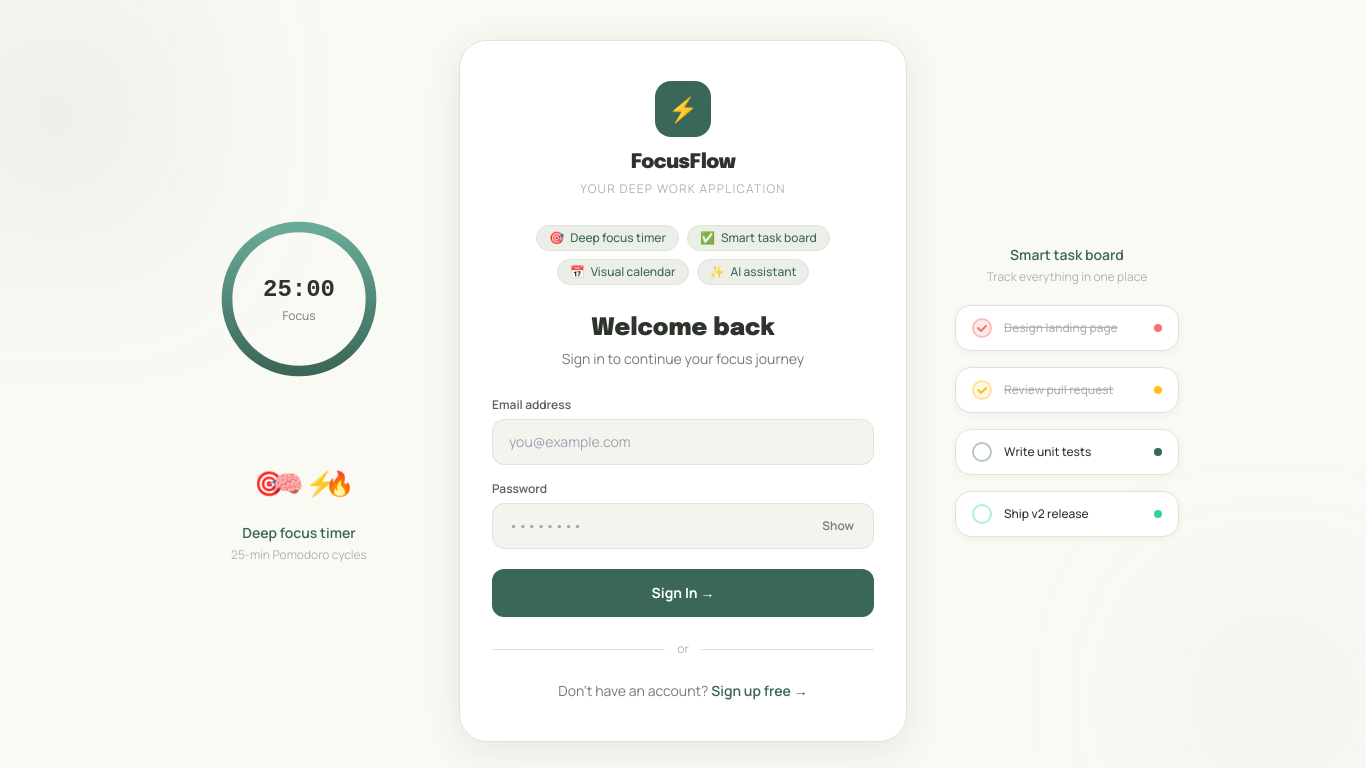
Test: LoginPage › AUTH-04: shows server error message when login fails
Type "bad@test.com" into the field labelled "Email address".
click(683, 442); type("bad@test.com")  # box [492, 419, 874, 465]
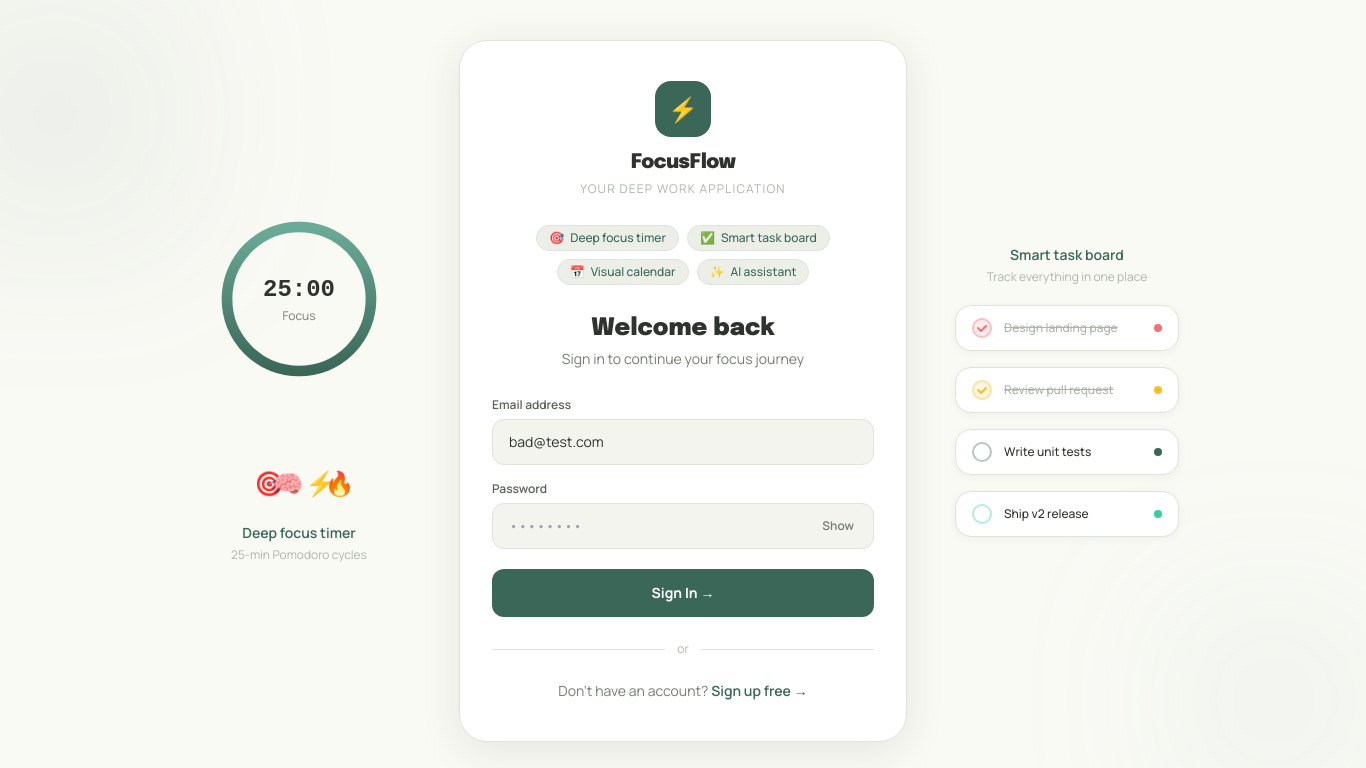
Type "wrongpass" into the password field labelled "Password".
click(683, 526); type("wrongpass")  # box [492, 503, 874, 549]
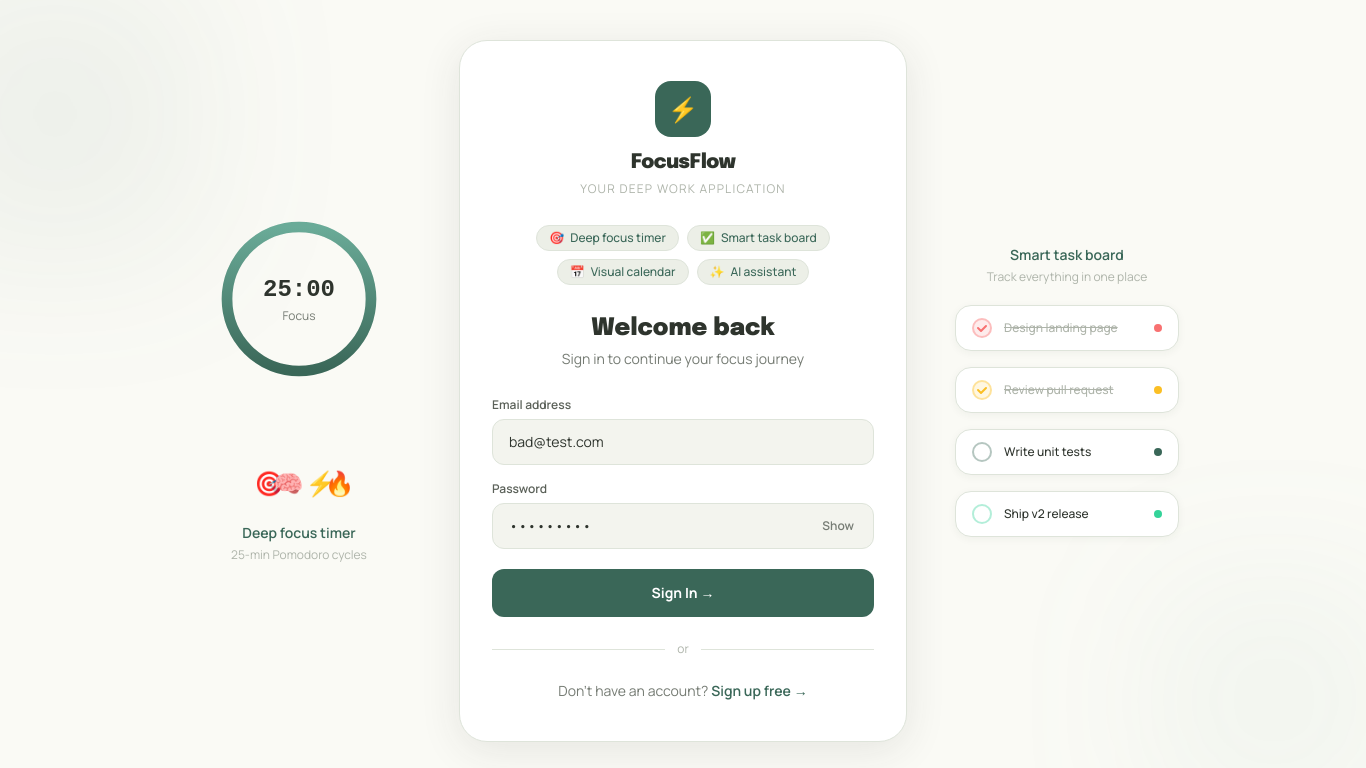
Click the button "Sign In →".
click(683, 593)  # box [492, 569, 874, 617]
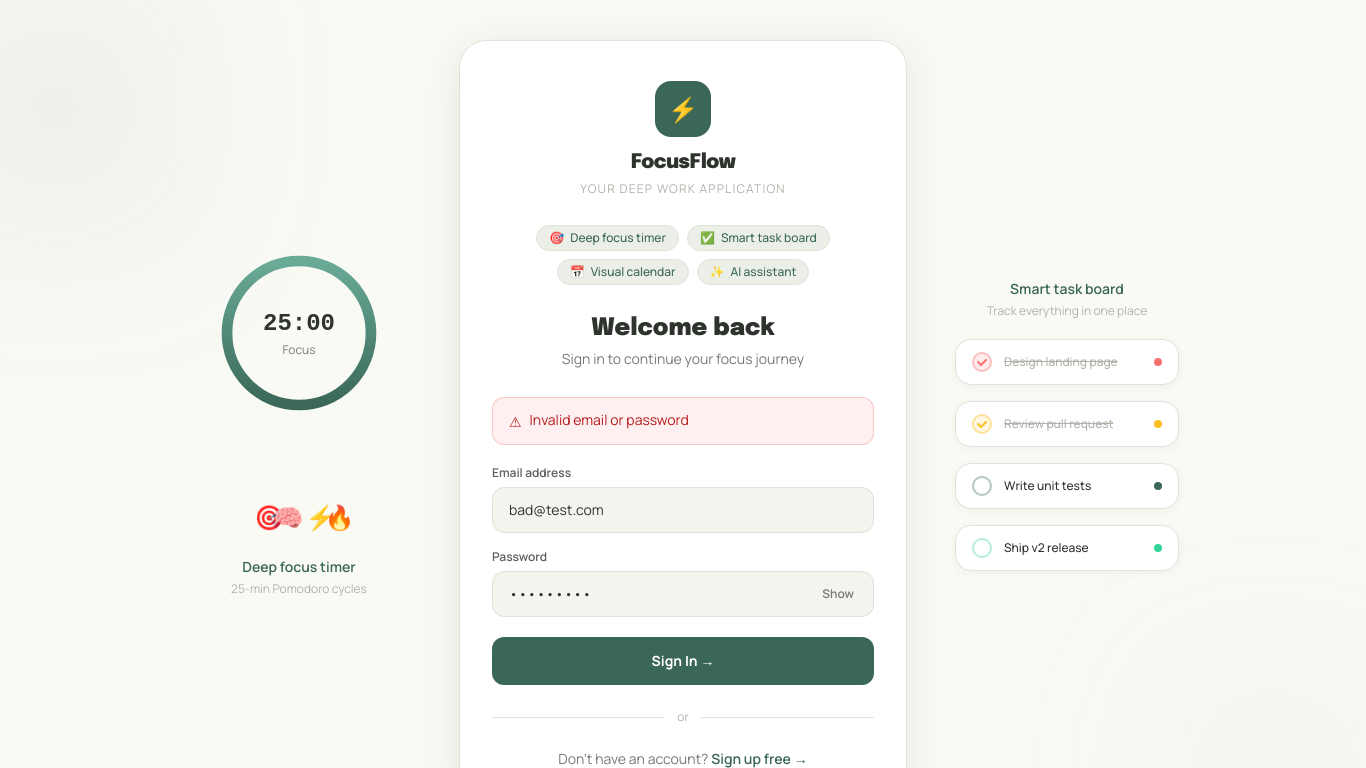
Expected: the text "Invalid email or password" is shown, [530, 410, 689, 430]
